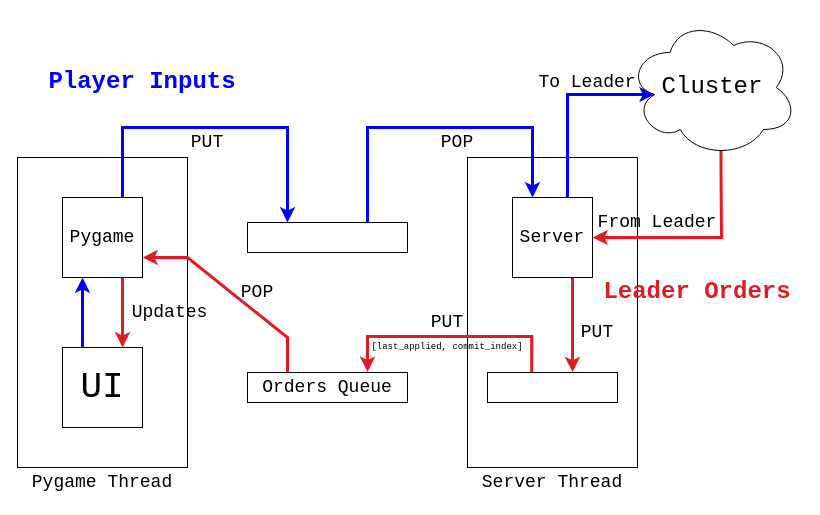
Some shapes in this 820 by 515 pixel diagram are drawn without their labels. The shapes that lost their labels are listed below. From the top down, each one's centre as x and y in pixels, then its label:
the point at 327,237: Commands Queue
the point at 552,387: LOG
